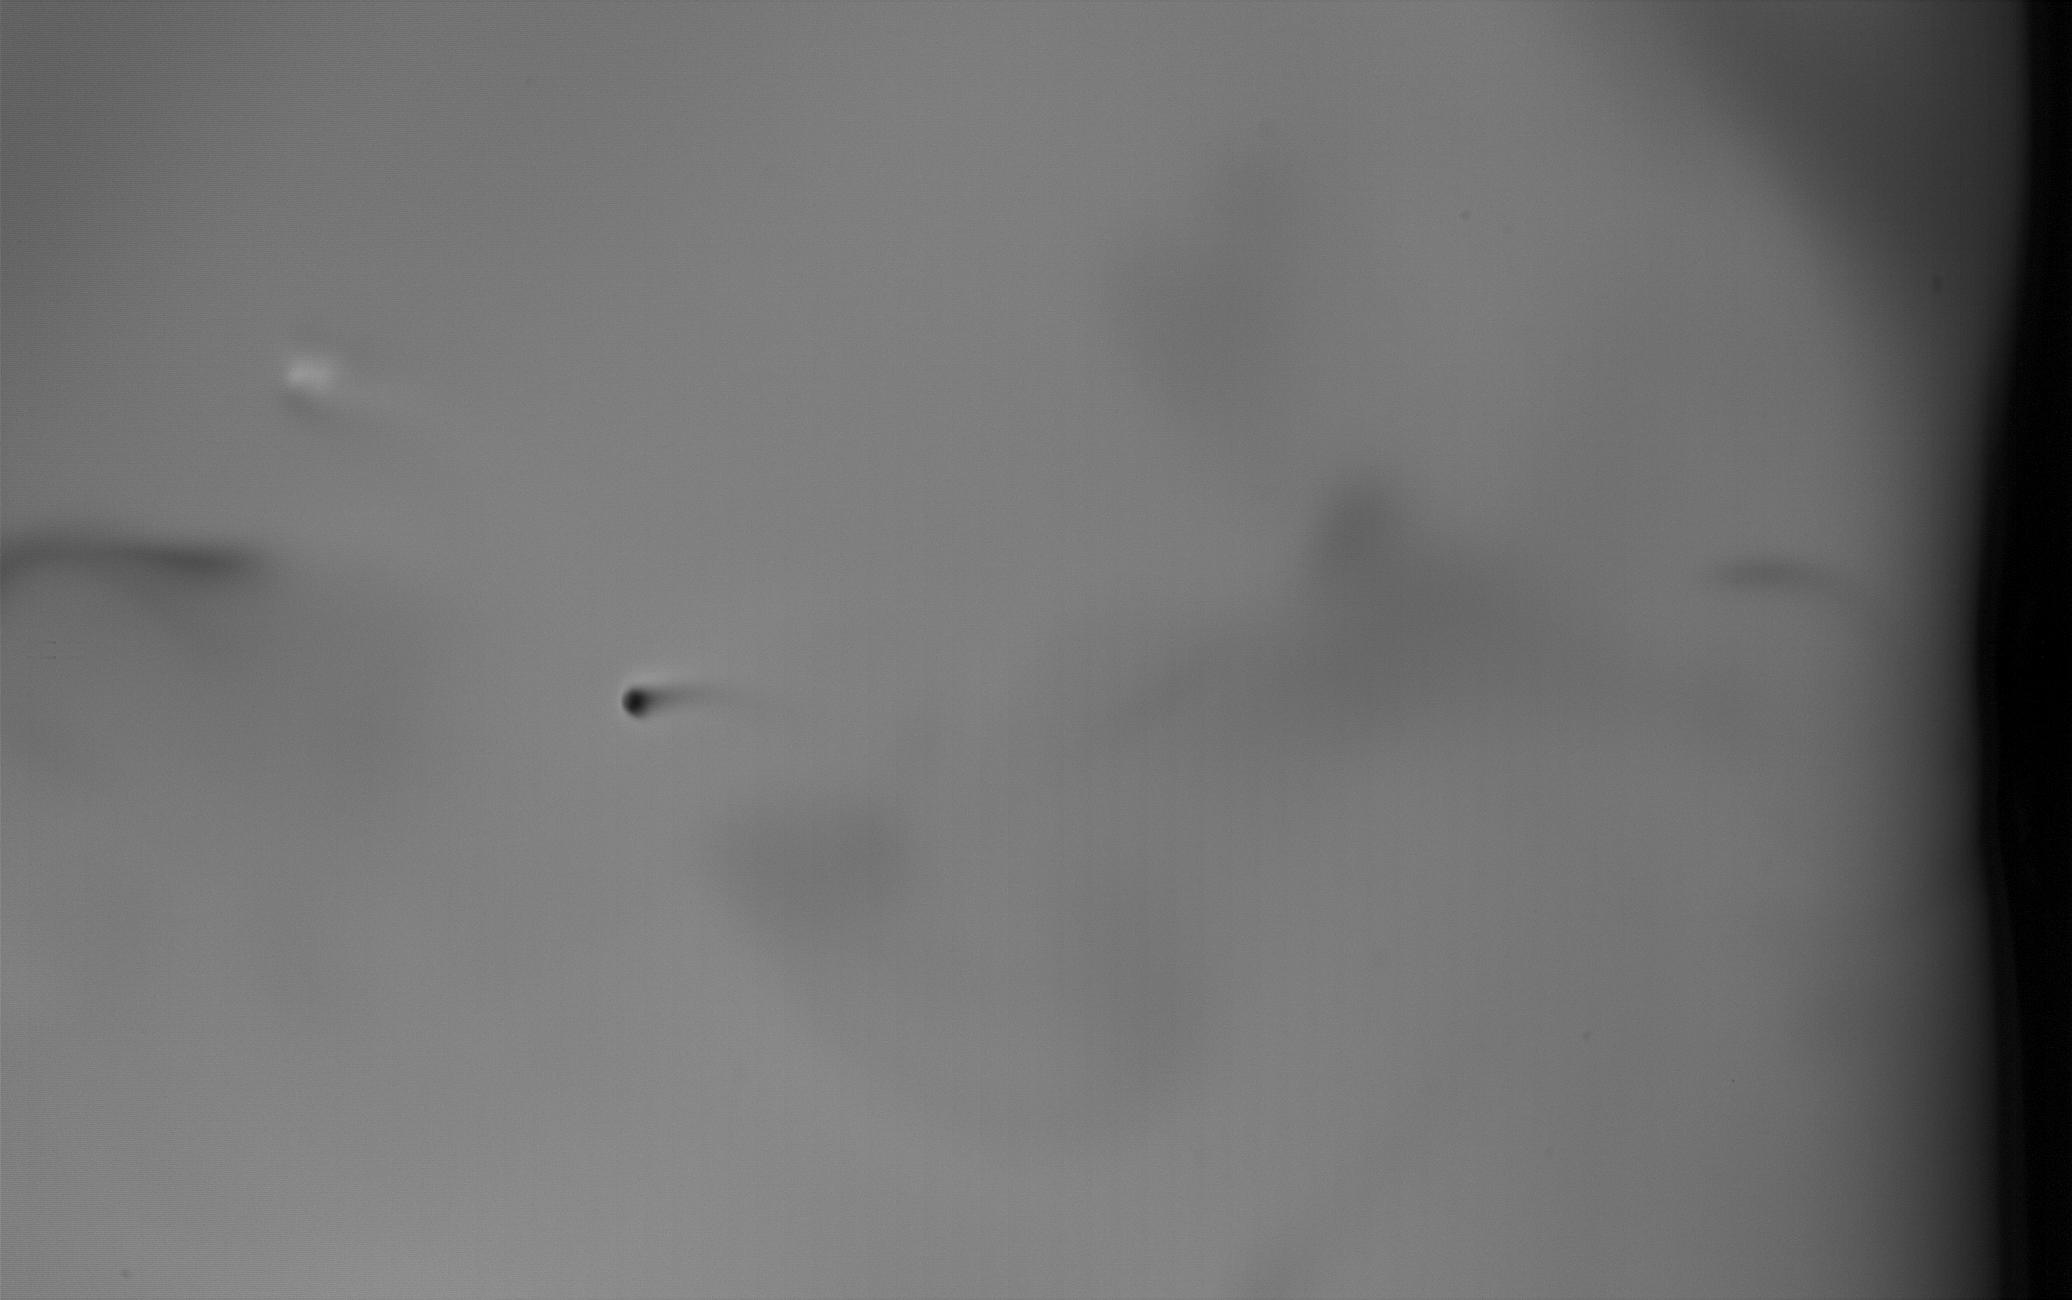ClassicalEvaporation: (618, 681, 656, 720)
